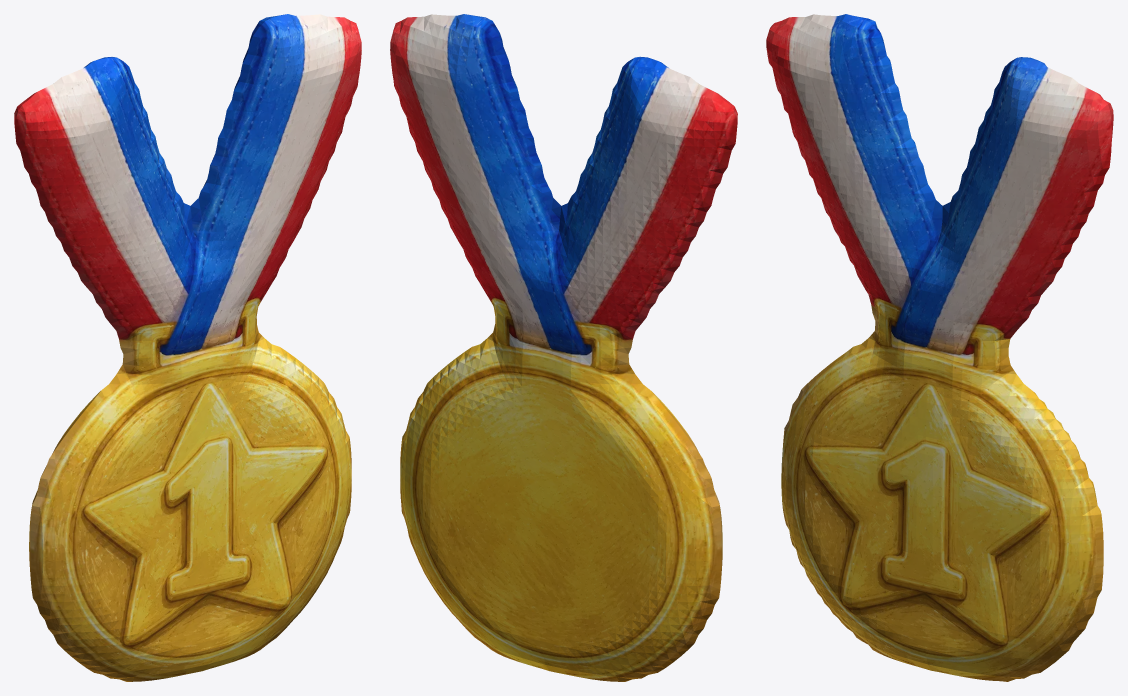
The model's file is gold_medal.glb.
The picture shows the model from 3 angles, left to right: view 1: azimuth 30°, elevation 25°; view 2: azimuth 150°, elevation 25°; view 3: azimuth 330°, elevation 25°; orthographic projection.
Parts seen in each view (by area): view 1: geometry_0; view 2: geometry_0; view 3: geometry_0.
Part boxes in pixels (x1,y1,x2,y2): geometry_0: (14,14,361,681); geometry_0: (390,14,737,681); geometry_0: (766,14,1113,681).
Bounding box in the file's own units: 0.559 × 0.9789 × 0.1035.
Materials: 1 (1 with a texture image).
